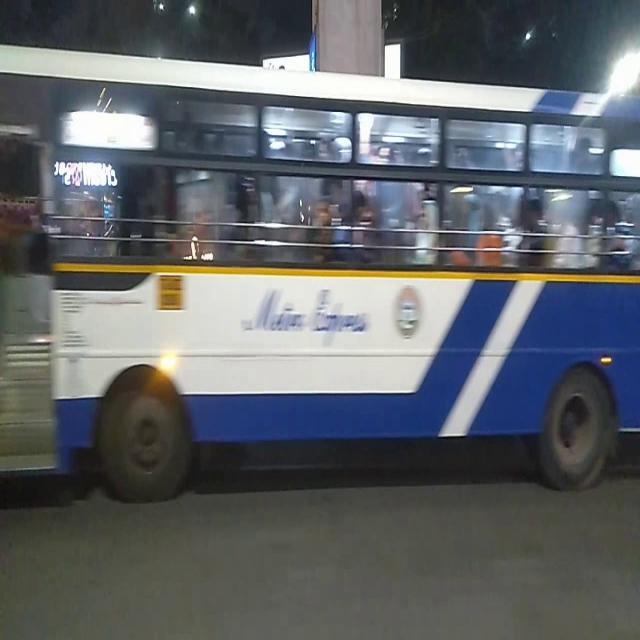bus: (0, 42, 640, 490)
road: (0, 488, 640, 640)
